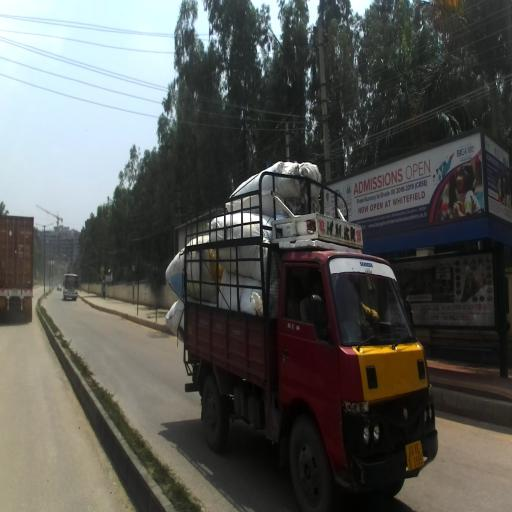street_light_0: (34, 222, 44, 228), (44, 223, 54, 228)
